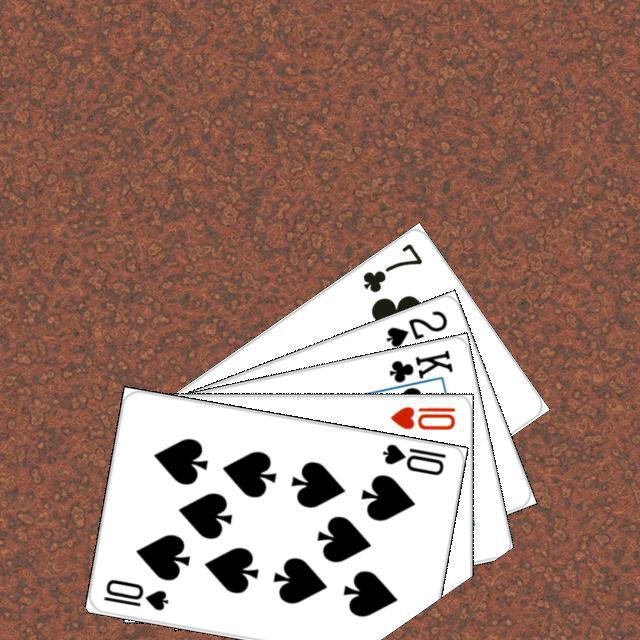10h: (385, 401, 457, 431)
10s: (377, 438, 448, 477), (99, 574, 170, 612)
2s: (381, 305, 450, 349)
7c: (357, 238, 424, 295)
Kc: (380, 344, 455, 393)
